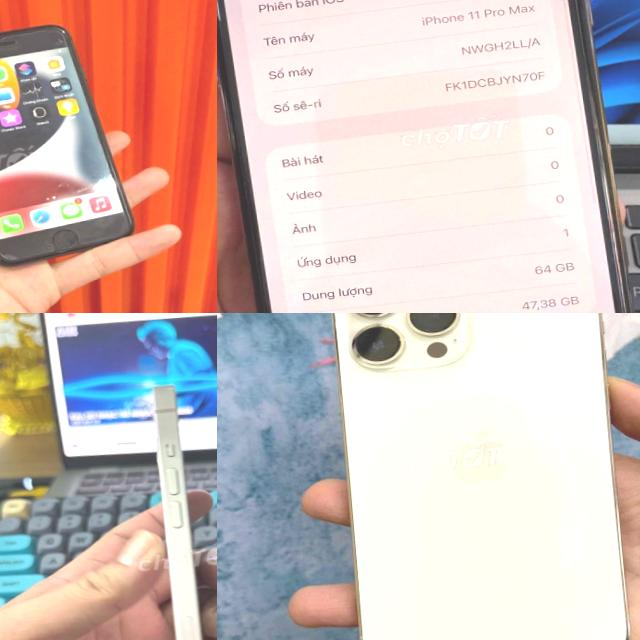scratch: (46, 22, 71, 46), (0, 251, 20, 260)
